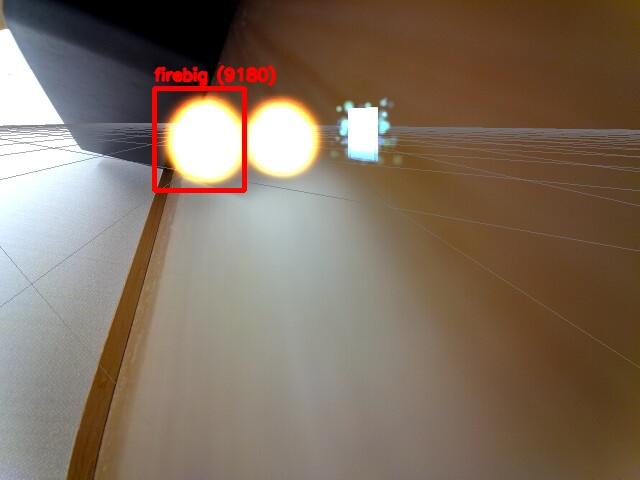firebig: (154, 88, 244, 190)
